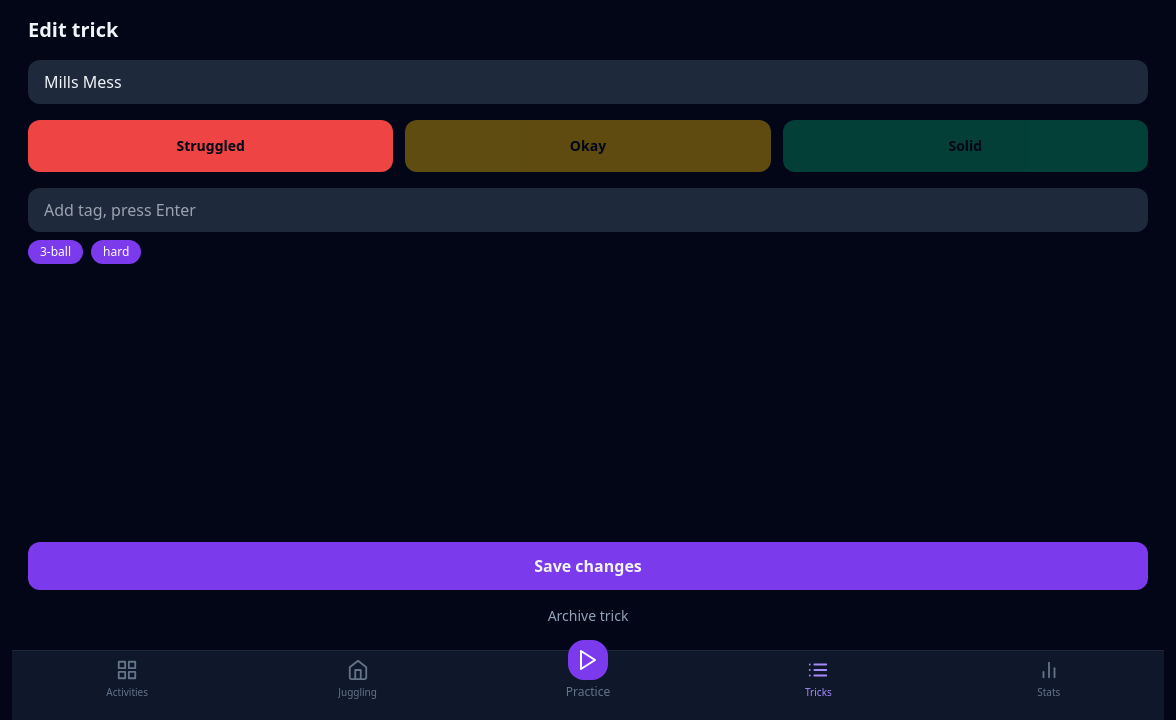
archiving › Archive on the edit screen hides the item from the list
The image size is (1176, 720).
Click the button "Archive trick".
click(588, 616)  # box [28, 598, 1148, 634]
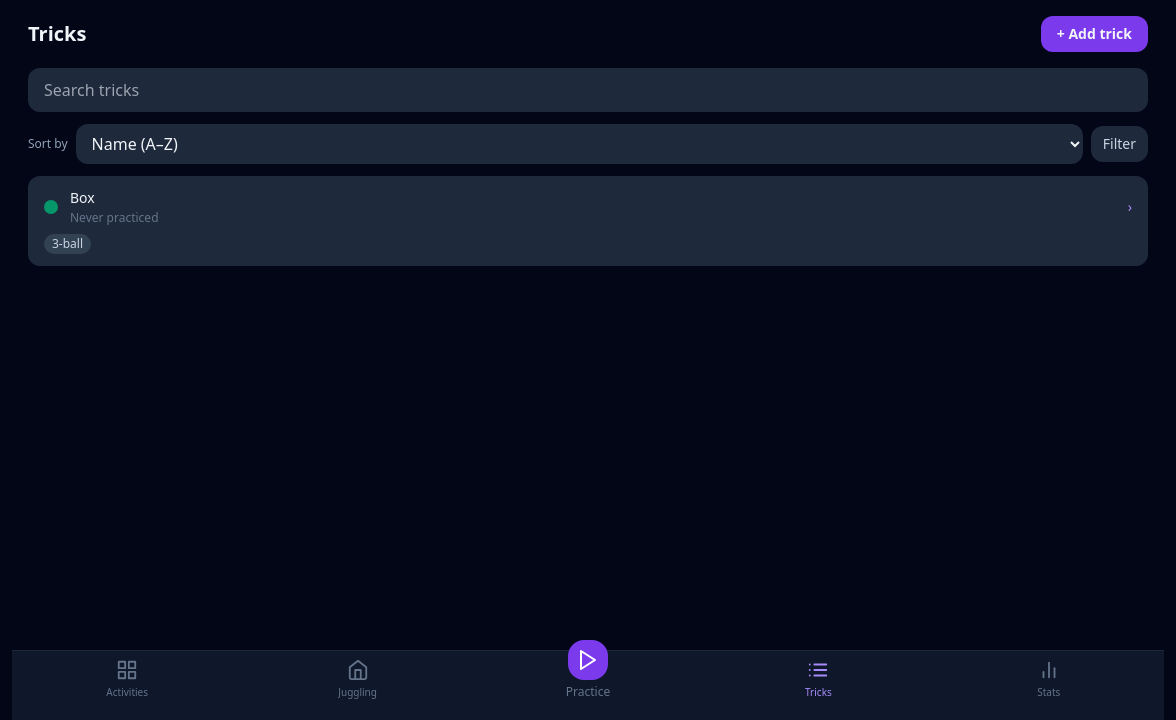
Check: the text "Mills Mess" is not shown
Click the button "Filter".
click(1119, 144)  # box [1091, 126, 1148, 162]
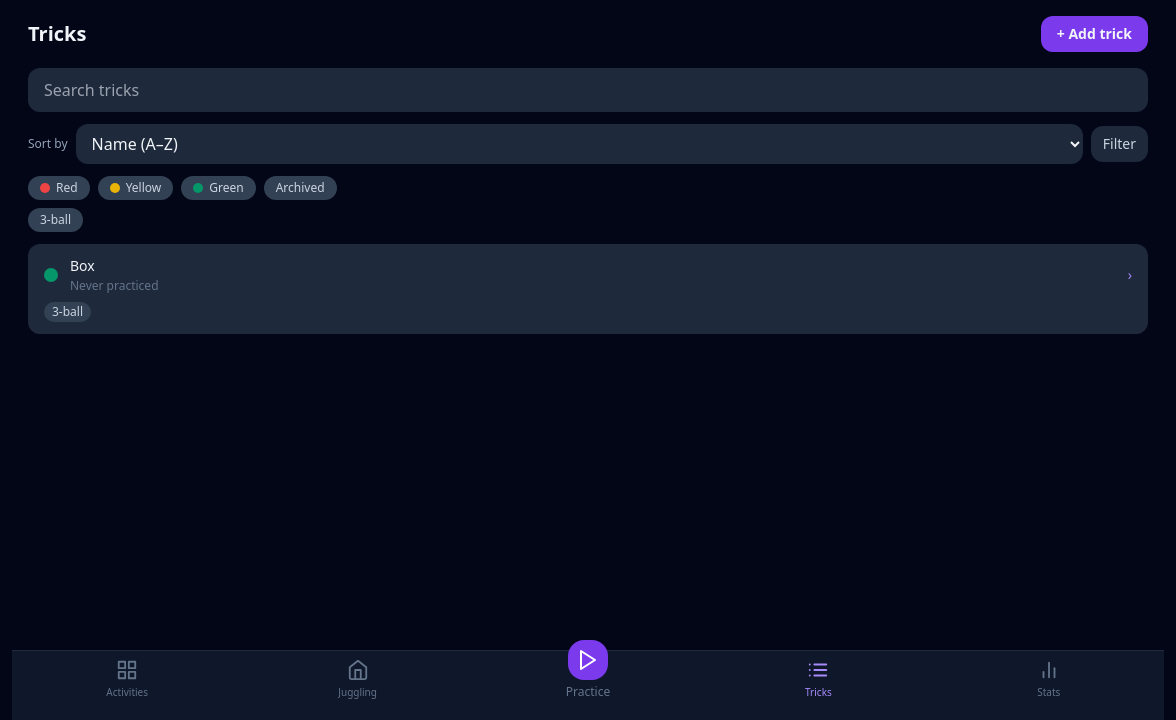
Click the button "Archived".
click(300, 188)  # box [264, 176, 336, 200]
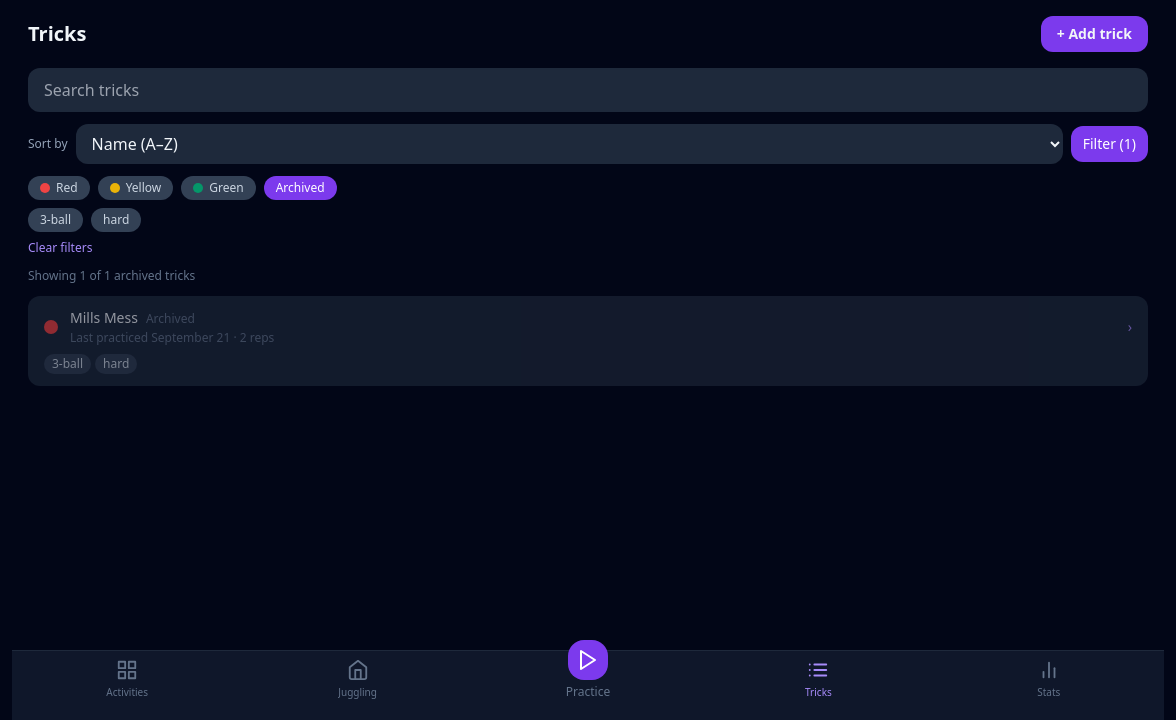
Check: the text "Mills Mess" is shown, box [70, 308, 138, 327]
Check: the link "Box" is gone
